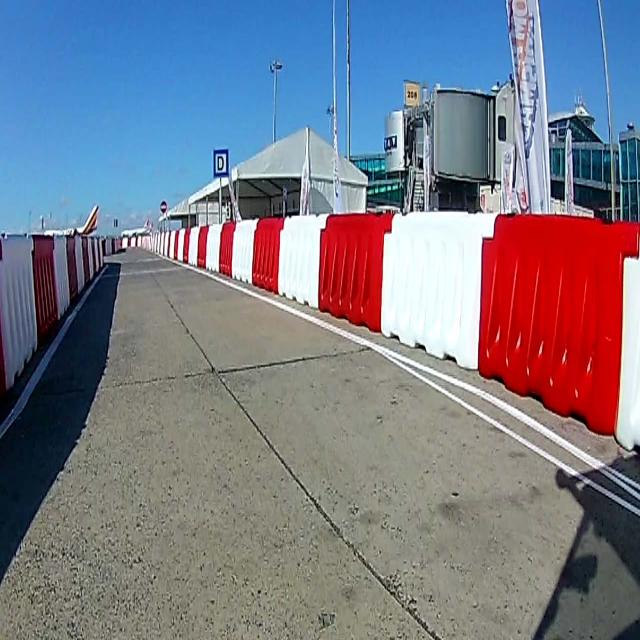durak: (214, 148, 229, 177)
girisyok: (159, 200, 167, 214)
